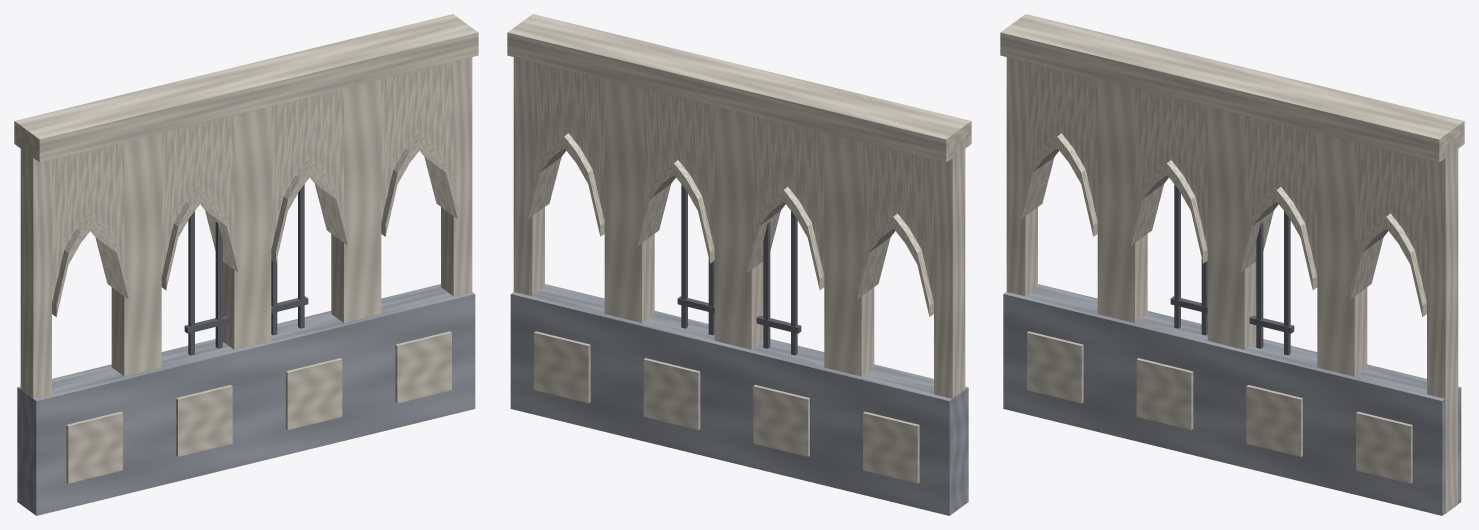
The model's file is vampire-crypt-and-gothic-cathedral-choir-screen-08d1d0c2__22959.glb.
3 views of the same model, side by side, from view 1: azimuth 30°, elevation 25°; view 2: azimuth 150°, elevation 25°; view 3: azimuth 330°, elevation 25° (orthographic).
Visible parts, largest first — view 1: choir-screen, screen-gate; view 2: choir-screen, screen-gate; view 3: choir-screen, screen-gate.
Part boxes in pixels (bbox=[...]): choir-screen: bbox=[14, 14, 478, 515]; screen-gate: bbox=[184, 184, 308, 355]; choir-screen: bbox=[507, 14, 971, 515]; screen-gate: bbox=[677, 184, 801, 355]; choir-screen: bbox=[1000, 14, 1464, 515]; screen-gate: bbox=[1170, 184, 1294, 355].
Bounding box in the file's own units: 4 × 3.3 × 0.4302.
3 materials, 2 textured.
